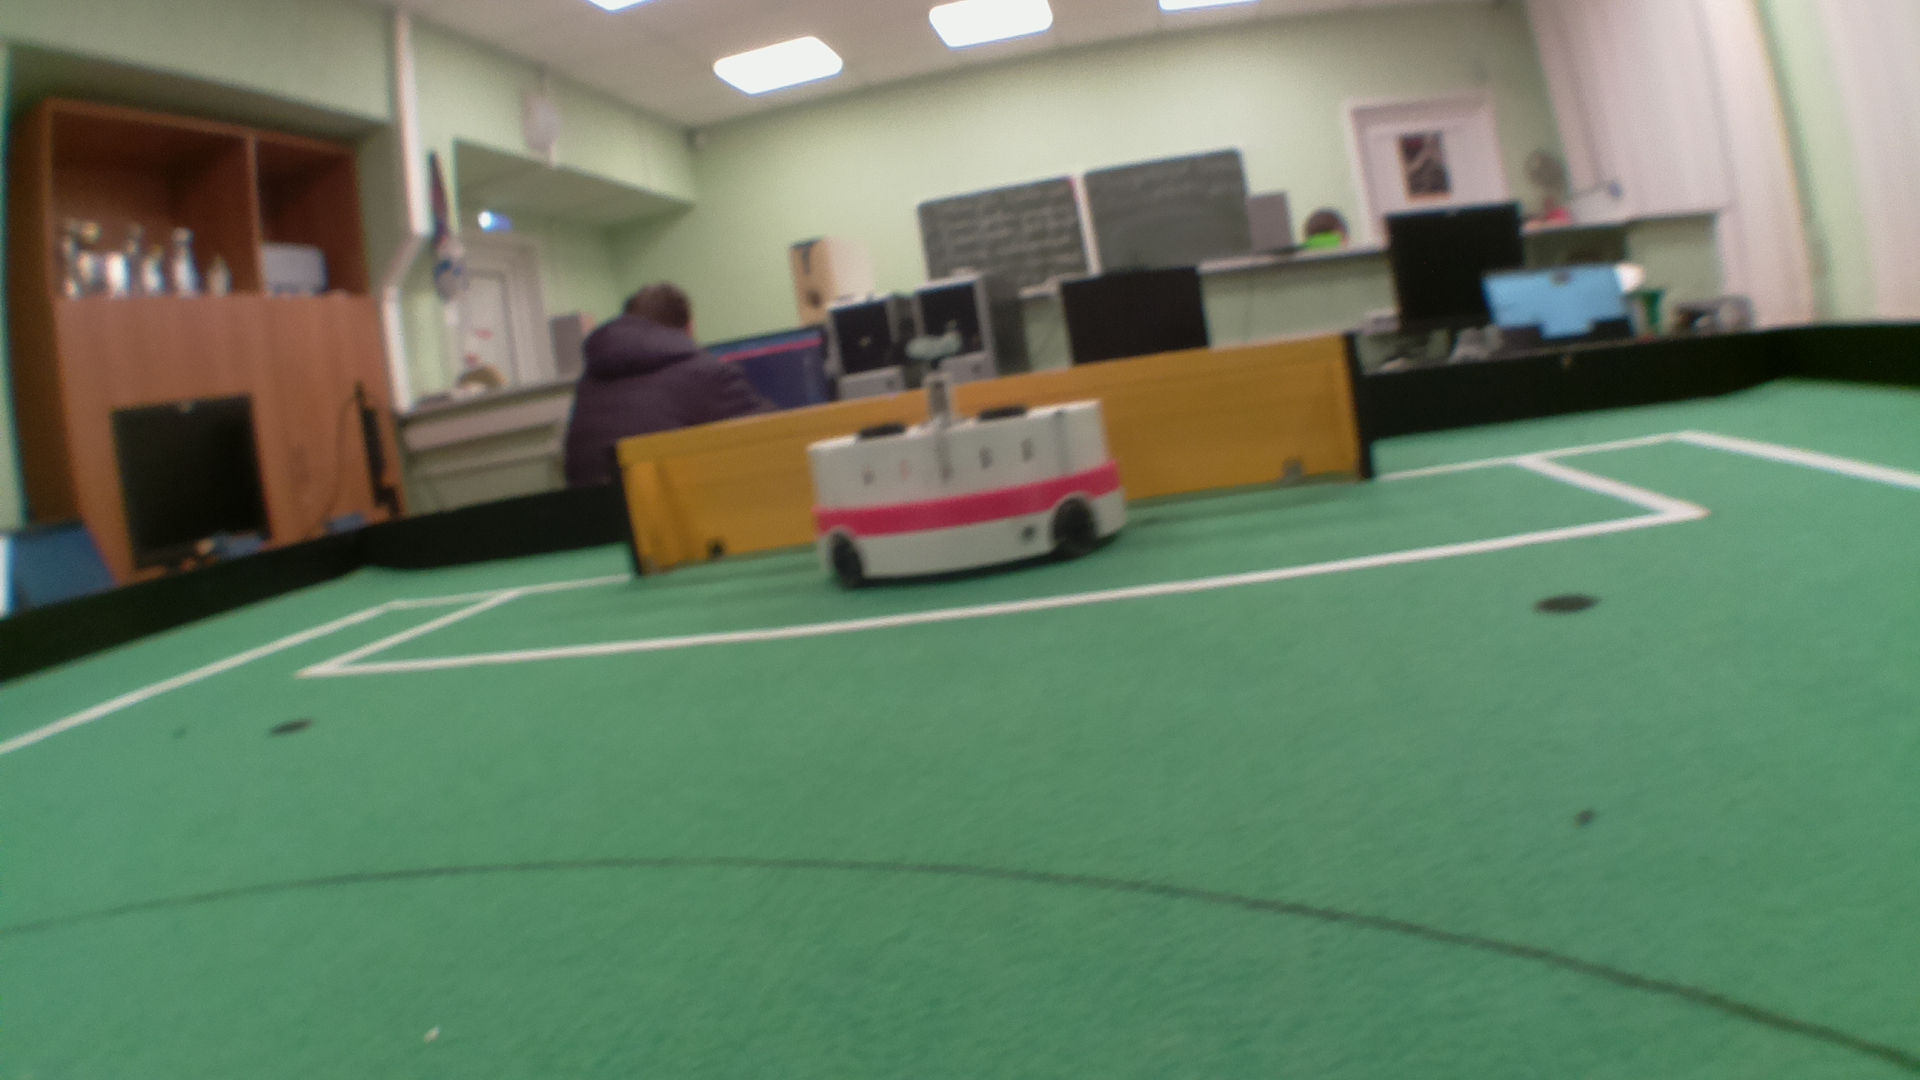YellowGoal: (611, 342, 1360, 568)
